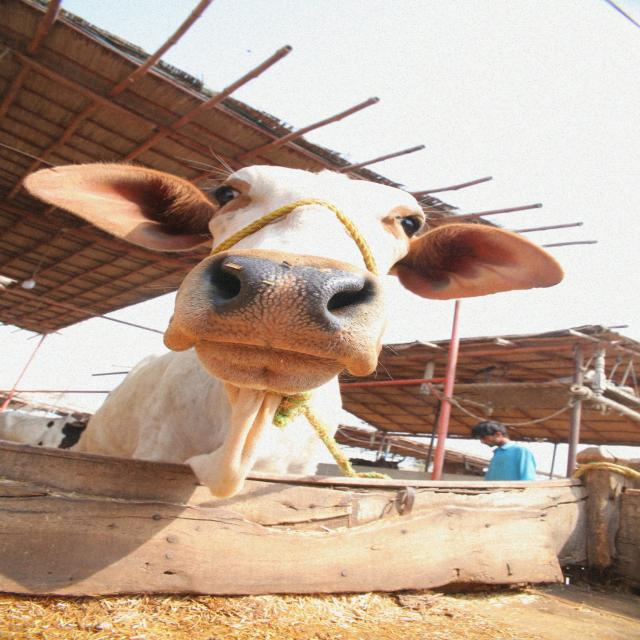muzzles: (193, 251, 372, 366)
